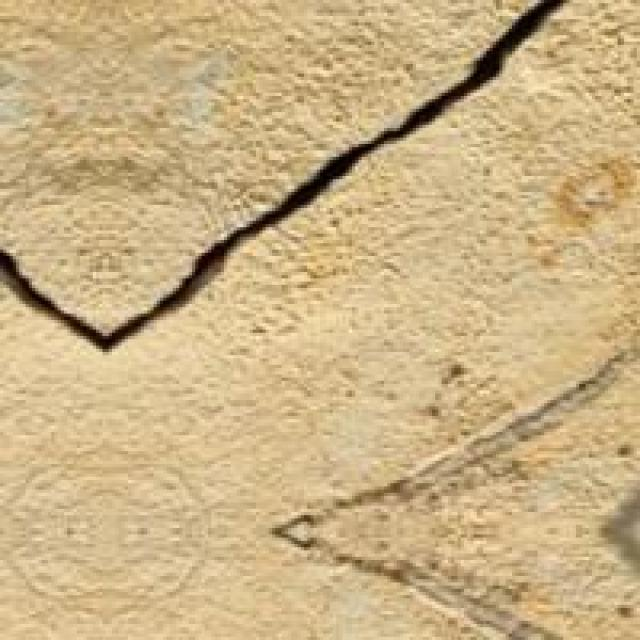crack: (0, 3, 637, 349)
